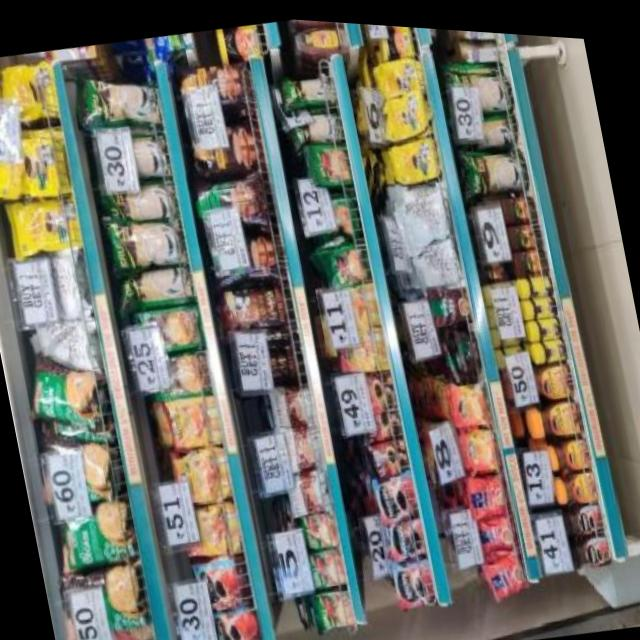Coffee: (170, 439, 233, 503), (181, 495, 242, 556), (193, 549, 253, 609), (166, 392, 222, 448), (206, 597, 264, 640), (532, 389, 584, 435), (392, 552, 436, 601), (375, 467, 418, 515), (461, 418, 502, 465), (450, 377, 492, 421), (535, 352, 577, 395), (388, 511, 428, 554), (554, 463, 598, 500), (547, 429, 590, 466), (561, 493, 604, 529), (570, 525, 612, 561)
